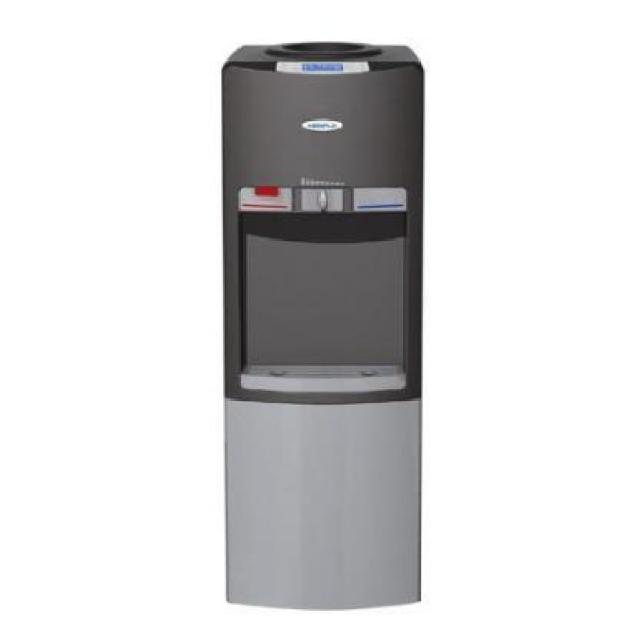cooler: (220, 34, 424, 609)
